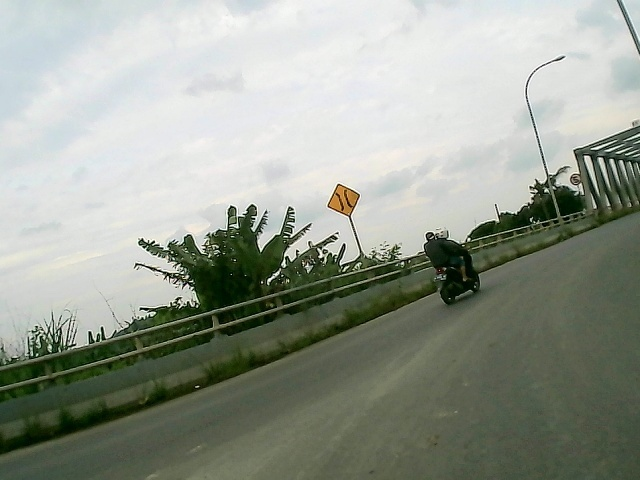Jembatan: (325, 181, 364, 218)
